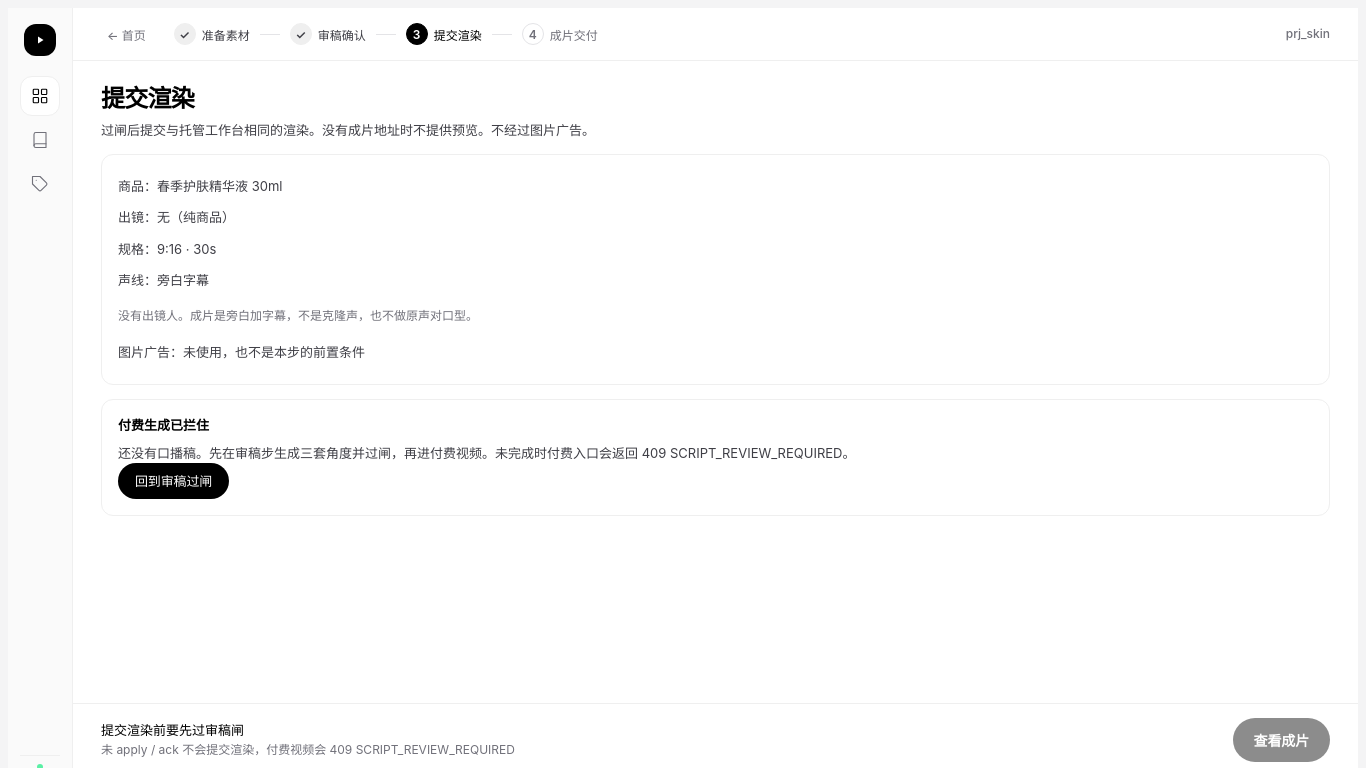
Test: iter18 图片广告与工作室解耦 › 直接打开生成步时，未过闸会拦住并送回审稿
Expected: the heading "提交渲染" is shown, [101,84,194,113]
Expected: the message shows "SCRIPT_REVIEW_REQUIRED", [118,445,856,461]
Click the button "回到审稿过闸": click(174, 481) [118,463,229,499]
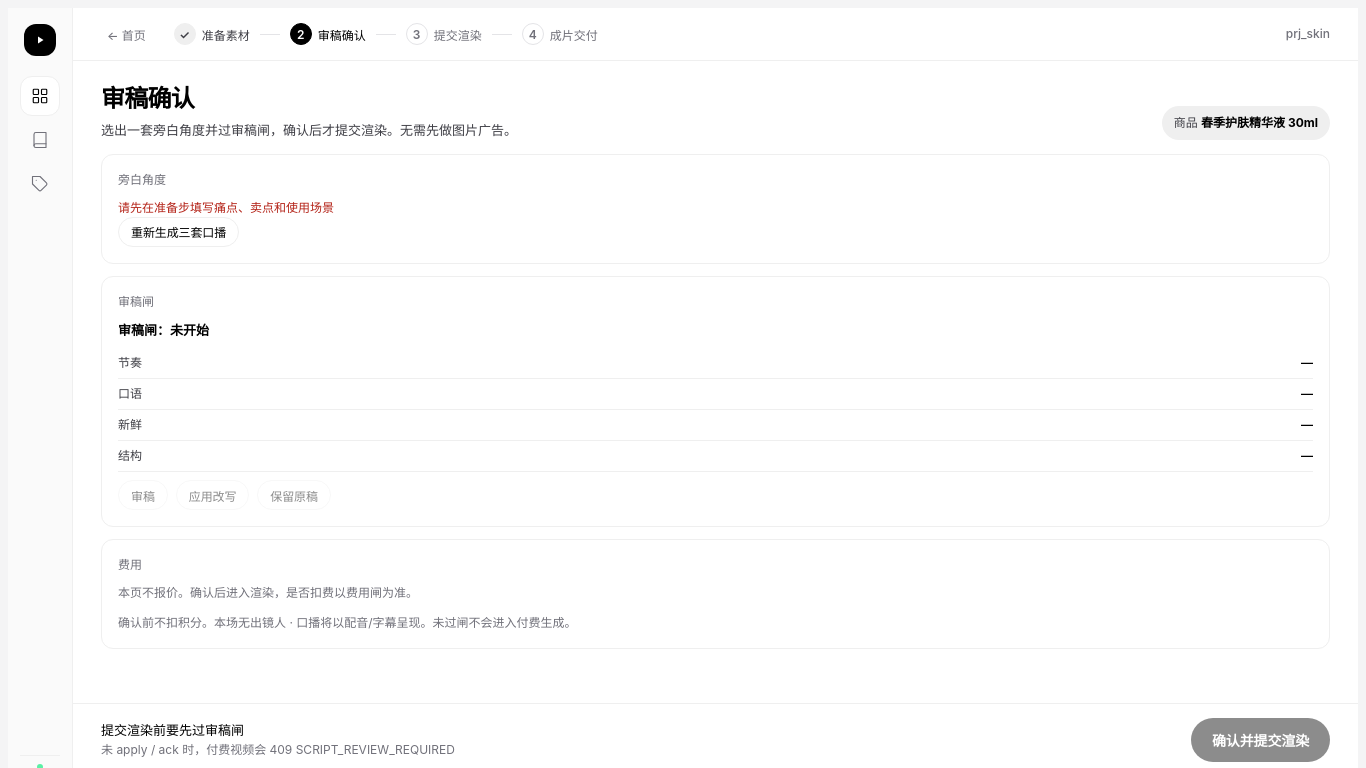
Now the heading "审稿确认" is shown, box [101,84,194,113]
